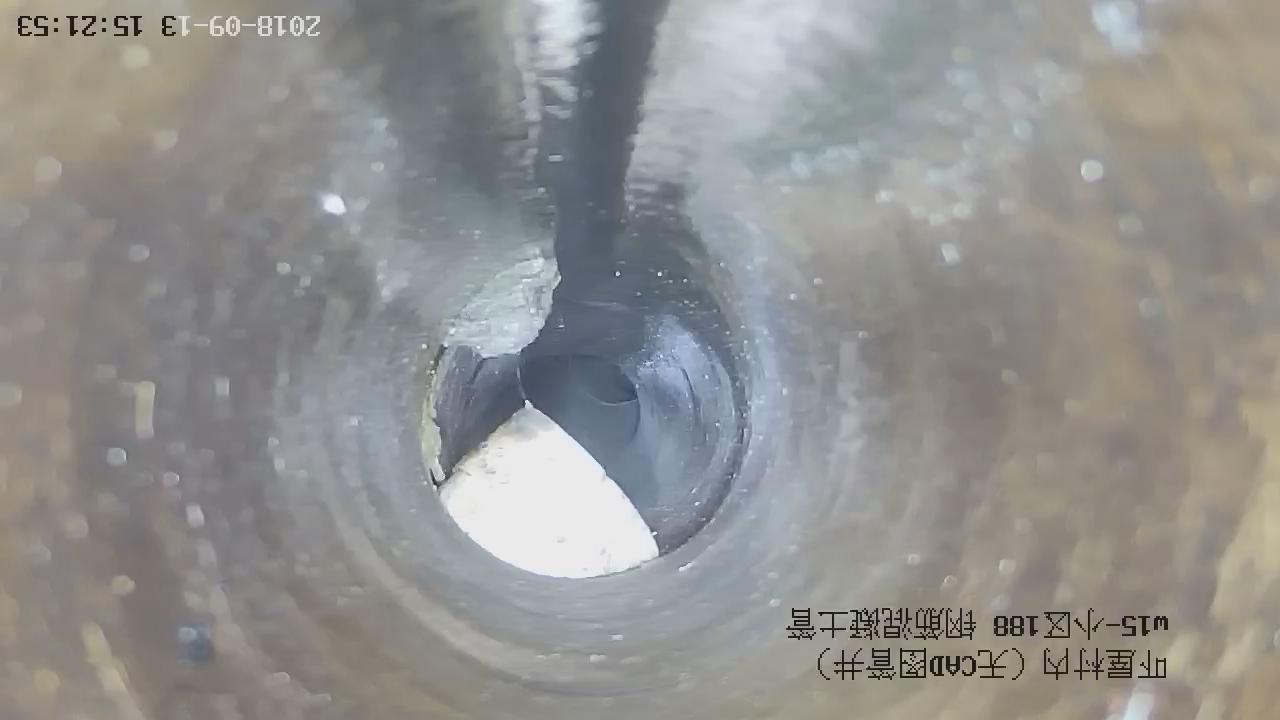ZGAJ: (440, 403, 660, 578)
